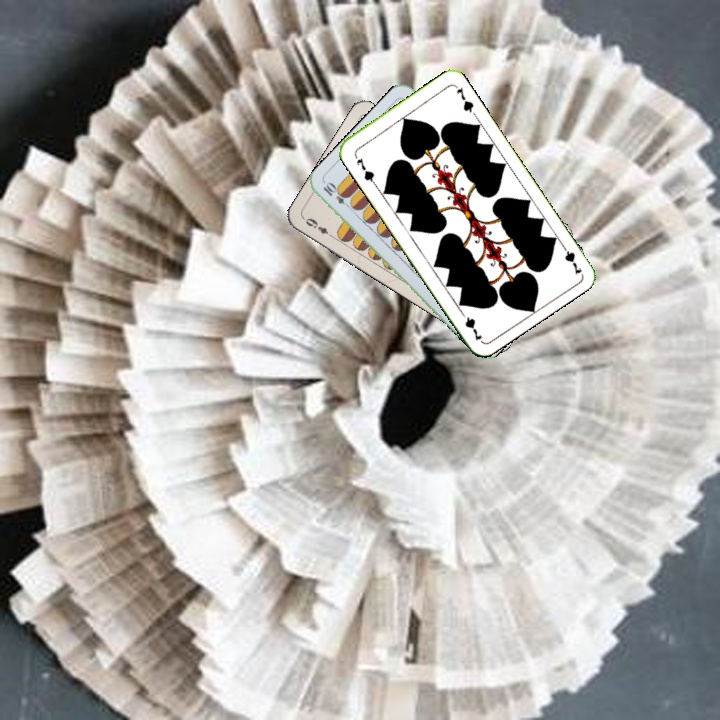E10: (319, 179, 354, 211)
E9: (300, 214, 337, 240)
G7: (556, 239, 585, 277), (352, 154, 378, 186)
